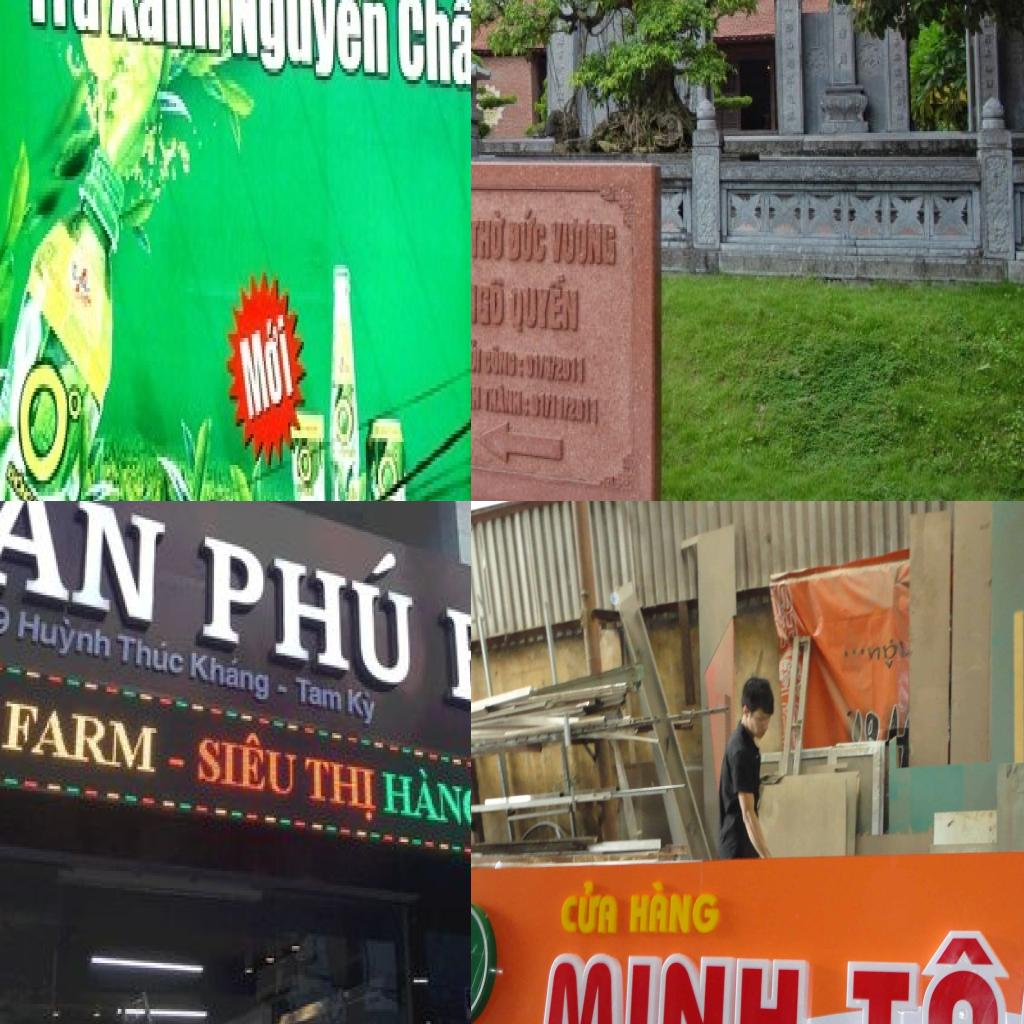text: (192, 503, 420, 697), (0, 501, 172, 638), (537, 950, 810, 1024), (842, 928, 1024, 1024), (227, 0, 393, 95), (4, 326, 84, 501), (0, 694, 161, 778), (192, 718, 300, 801), (105, 0, 224, 64), (236, 308, 298, 430), (395, 0, 471, 99), (381, 759, 471, 837), (16, 602, 114, 668), (303, 752, 379, 825), (505, 272, 582, 342), (189, 644, 274, 706), (628, 879, 723, 933), (18, 0, 103, 45), (550, 216, 619, 270), (558, 880, 621, 935), (116, 632, 187, 678), (528, 390, 602, 429), (506, 206, 548, 269), (524, 350, 588, 388), (292, 670, 345, 711), (471, 208, 509, 265), (482, 382, 532, 422), (345, 682, 385, 731), (471, 275, 507, 329), (484, 344, 526, 382), (333, 392, 357, 453), (295, 442, 314, 492), (0, 592, 12, 641), (471, 336, 484, 377), (471, 374, 483, 417)
